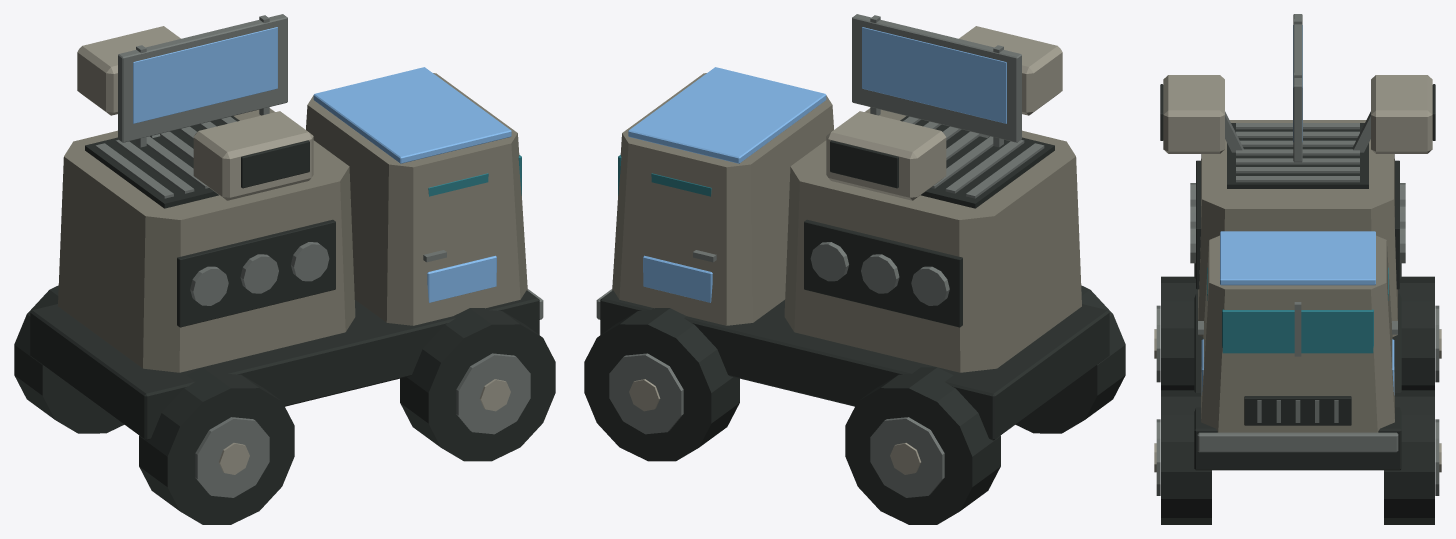
The model's file is speaker.glb.
The picture shows the model from 3 angles, left to right: view 1: azimuth 30°, elevation 25°; view 2: azimuth 150°, elevation 25°; view 3: azimuth 270°, elevation 25°; orthographic projection. The views are drawn at different scales.
Visible parts, largest first — view 1: speaker; view 2: speaker; view 3: speaker.
Part boxes in pixels (left/top/right/bottom): speaker: left=14, top=14, right=555, bottom=524; speaker: left=584, top=14, right=1125, bottom=524; speaker: left=1154, top=14, right=1441, bottom=524.
Bounding box in the file's own units: 2.15 × 2.17 × 1.5.
